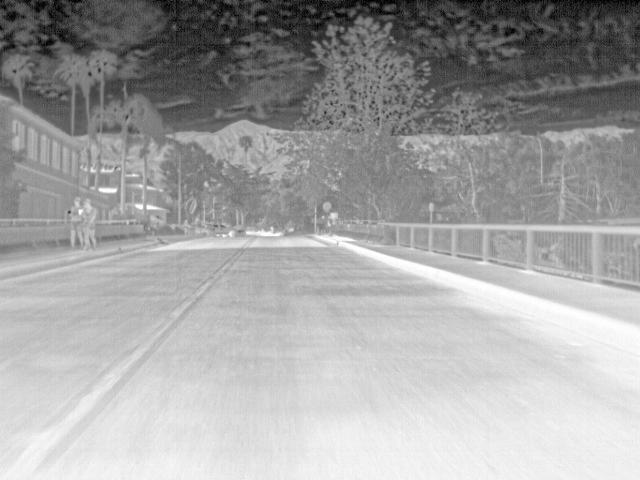car: (211, 223, 236, 238), (235, 228, 246, 237)
person: (82, 196, 100, 251), (68, 194, 82, 248)
